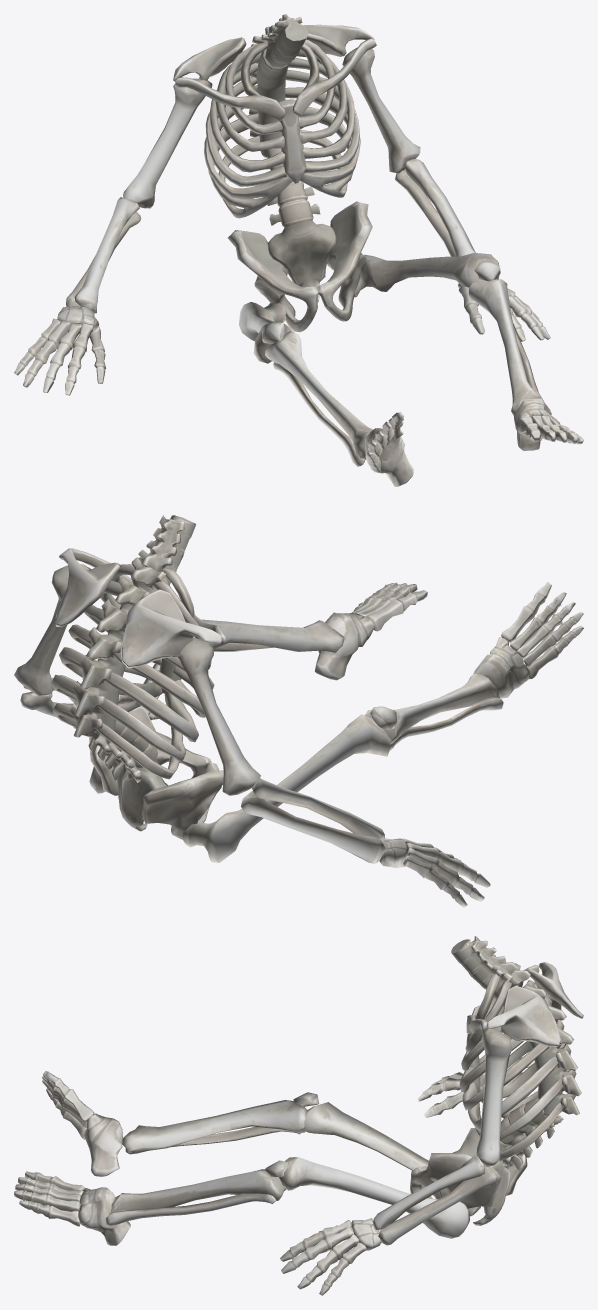
The picture shows the model from 3 angles, top to bottom: view 1: azimuth 30°, elevation 25°; view 2: azimuth 150°, elevation 25°; view 3: azimuth 270°, elevation 25°; orthographic projection. The views are drawn at different scales.
Parts seen in each view (by area): view 1: SM_Skeleton_Sitting_Quest_Headless_03_LOD0; view 2: SM_Skeleton_Sitting_Quest_Headless_03_LOD0; view 3: SM_Skeleton_Sitting_Quest_Headless_03_LOD0.
Part boxes in pixels (box(x1,y1,x2,y2)): SM_Skeleton_Sitting_Quest_Headless_03_LOD0: box(14, 14, 583, 486); SM_Skeleton_Sitting_Quest_Headless_03_LOD0: box(14, 515, 583, 907); SM_Skeleton_Sitting_Quest_Headless_03_LOD0: box(14, 936, 583, 1295).
Bounding box in the file's own units: 1.11 × 0.731 × 1.3.
Materials: 1 (1 with a texture image).
